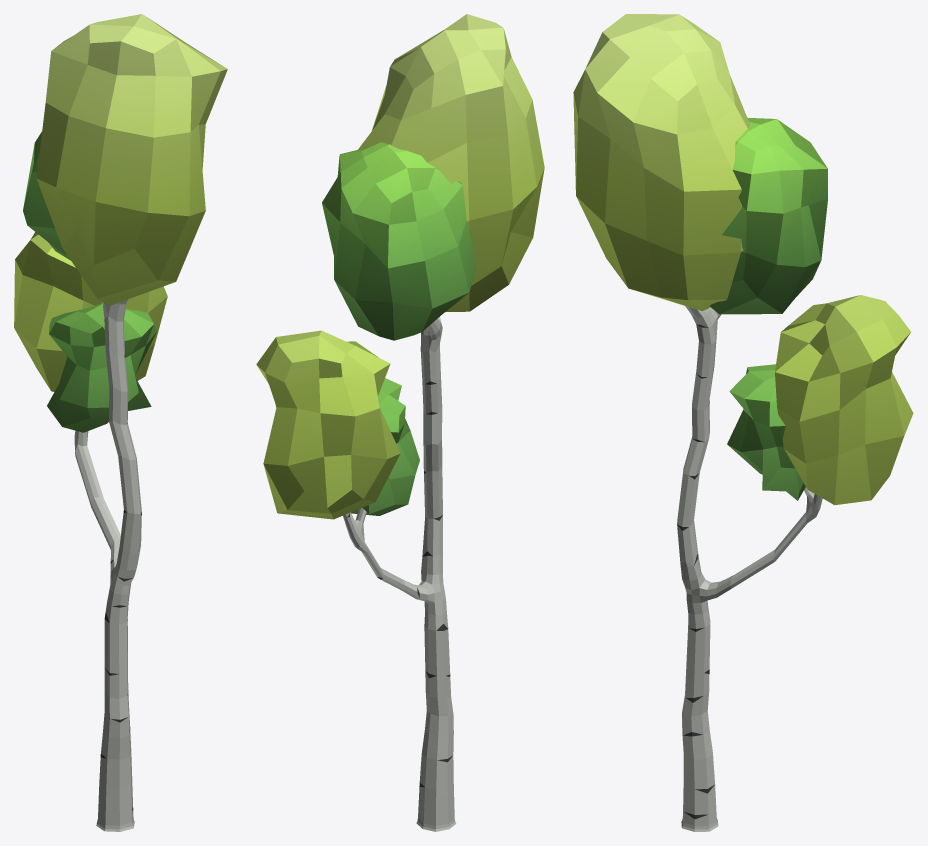
The model's file is BirchTree5.fbx.
3 views of the same model, side by side, from view 1: azimuth 30°, elevation 25°; view 2: azimuth 150°, elevation 25°; view 3: azimuth 270°, elevation 25° (orthographic). The views are drawn at different scales.
Parts seen in each view (by area): view 1: BirchTree_5_Cube.001, BirchTree_5_Cube.072; view 2: BirchTree_5_Cube.001, BirchTree_5_Cube.072; view 3: BirchTree_5_Cube.001, BirchTree_5_Cube.072.
Boxes of the visible parts, x1=… form: BirchTree_5_Cube.001: x1=14, y1=14, x2=227, y2=432; BirchTree_5_Cube.072: x1=74, y1=299, x2=141, y2=831; BirchTree_5_Cube.001: x1=256, y1=14, x2=544, y2=519; BirchTree_5_Cube.072: x1=343, y1=317, x2=456, y2=831; BirchTree_5_Cube.001: x1=573, y1=14, x2=913, y2=505; BirchTree_5_Cube.072: x1=677, y1=306, x2=822, y2=831.
Size of the model in its own units: 119 by 501 by 193.
